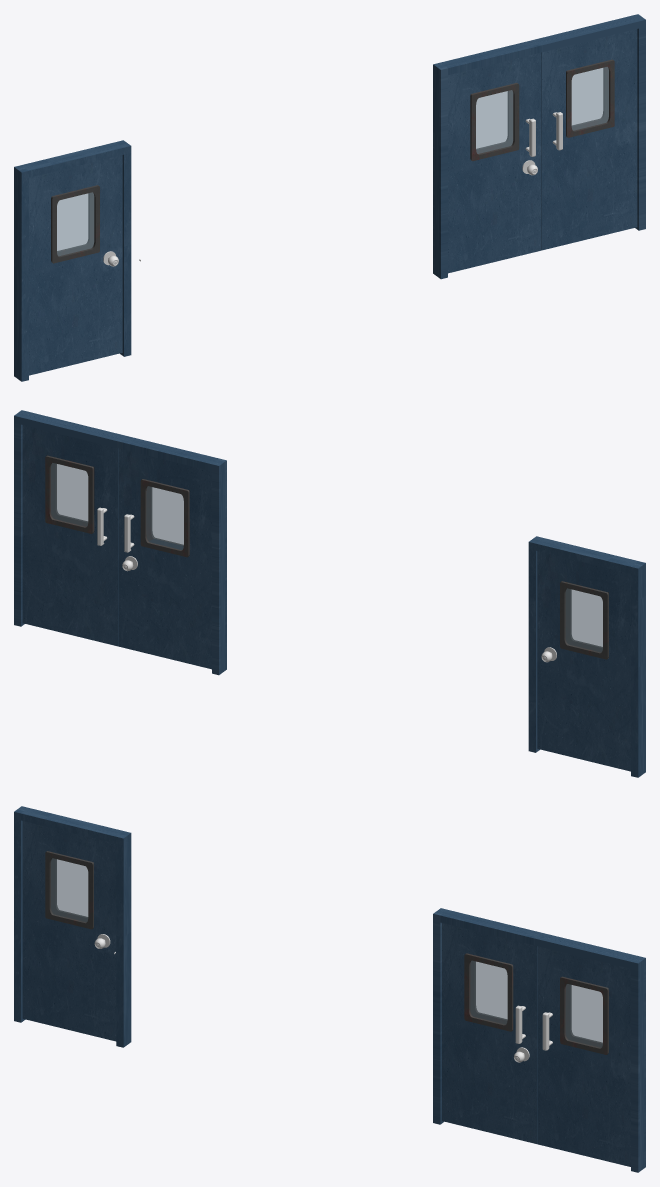
File: Door.fbx
3 renders of one model, top to bottom at view 1: azimuth 30°, elevation 25°; view 2: azimuth 150°, elevation 25°; view 3: azimuth 330°, elevation 25°, orthographic.
Parts seen in each view (by area): view 1: Door.002, Door, Door.001, Holder.001, Holder, Cube.005, Cube.004, Cube.006, Door.004, Door.003, Door.005; view 2: Door.002, Door.001, Door, Holder.001, Holder, Cube.004, Cube.005, Cube.006, Door.005, Door.003, Door.004; view 3: Door, Door.001, Door.002, Holder.001, Holder, Cube.005, Cube.004, Cube.006, Door.004, Door.003, Door.005.
Boxes of the visible parts, x1=… form: Door.002: x1=541, y1=29, x2=637, y2=250; Door: x1=29, y1=155, x2=122, y2=375; Door.001: x1=448, y1=52, x2=541, y2=273; Holder.001: x1=433, y1=14, x2=645, y2=279; Holder: x1=14, y1=140, x2=131, y2=381; Cube.005: x1=476, y1=90, x2=513, y2=153; Cube.004: x1=57, y1=192, x2=94, y2=256; Cube.006: x1=571, y1=67, x2=608, y2=130; Door.004: x1=470, y1=83, x2=519, y2=161; Door.003: x1=51, y1=185, x2=99, y2=263; Door.005: x1=566, y1=59, x2=614, y2=137; Door.002: x1=22, y1=425, x2=118, y2=646; Door.001: x1=118, y1=448, x2=211, y2=669; Door: x1=537, y1=551, x2=630, y2=771; Holder.001: x1=14, y1=410, x2=226, y2=675; Holder: x1=528, y1=536, x2=645, y2=777; Cube.004: x1=565, y1=588, x2=608, y2=658; Cube.005: x1=146, y1=486, x2=183, y2=549; Cube.006: x1=51, y1=463, x2=88, y2=526; Door.005: x1=45, y1=455, x2=94, y2=533; Door.003: x1=560, y1=581, x2=608, y2=659; Door.004: x1=140, y1=479, x2=189, y2=557; Door: x1=22, y1=821, x2=116, y2=1041; Door.001: x1=442, y1=923, x2=537, y2=1143; Door.002: x1=537, y1=946, x2=630, y2=1166; Holder.001: x1=433, y1=908, x2=645, y2=1172; Holder: x1=14, y1=806, x2=131, y2=1047; Cube.005: x1=470, y1=960, x2=507, y2=1024; Cube.004: x1=51, y1=858, x2=88, y2=922; Cube.006: x1=565, y1=984, x2=602, y2=1047; Door.004: x1=464, y1=953, x2=513, y2=1031; Door.003: x1=45, y1=851, x2=93, y2=929; Door.005: x1=560, y1=976, x2=608, y2=1054.
Size of the model in its own units: 655 by 211 by 39.87.
Materials: 4 (2 with a texture image).
